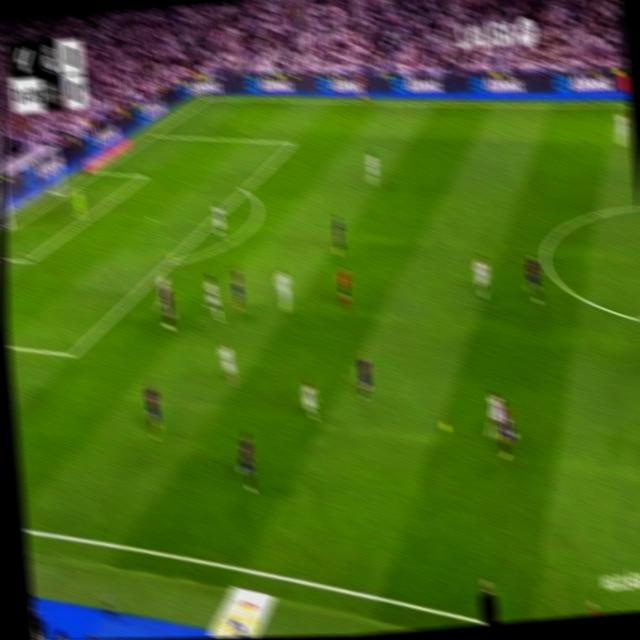bigarea_bottom_inner: (64, 340, 80, 367)
bigarea_top_inner: (287, 134, 297, 149)
bigarea_top_outter: (147, 127, 158, 138)
bottom_arc_area_intersection: (164, 250, 176, 270)
corner: (201, 91, 212, 102)
smallarea_bottom_inner: (21, 249, 33, 270)
smallarea_top_inner: (138, 170, 148, 181)
top_arc_area_intersection: (239, 180, 249, 196)
